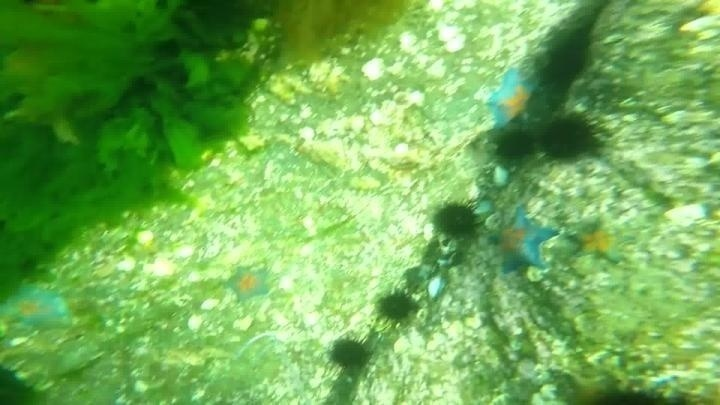echinus: (537, 109, 605, 165), (431, 199, 481, 241), (374, 287, 420, 328), (327, 334, 373, 373), (1, 360, 42, 403), (492, 127, 537, 165)
starfish: (488, 206, 559, 276), (1, 281, 77, 333), (484, 67, 541, 132), (568, 216, 635, 266), (554, 368, 624, 402), (224, 263, 274, 304)
